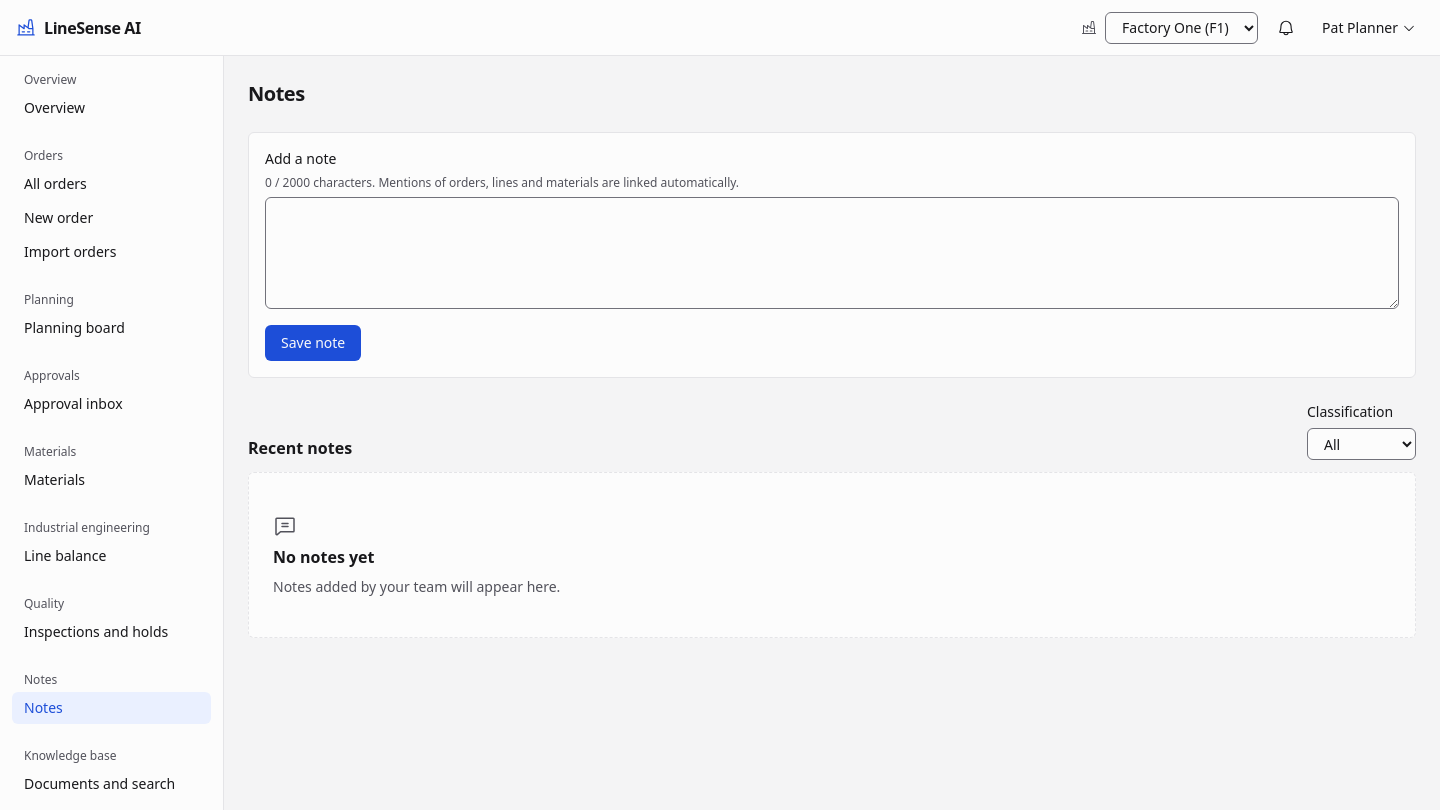
NotesPage › shows a server validation error inline
The width and height of the screenshot is (1440, 810).
Type "hi there team" into the text box labelled "Add a note" at (832,253), box [265,197,1399,309]
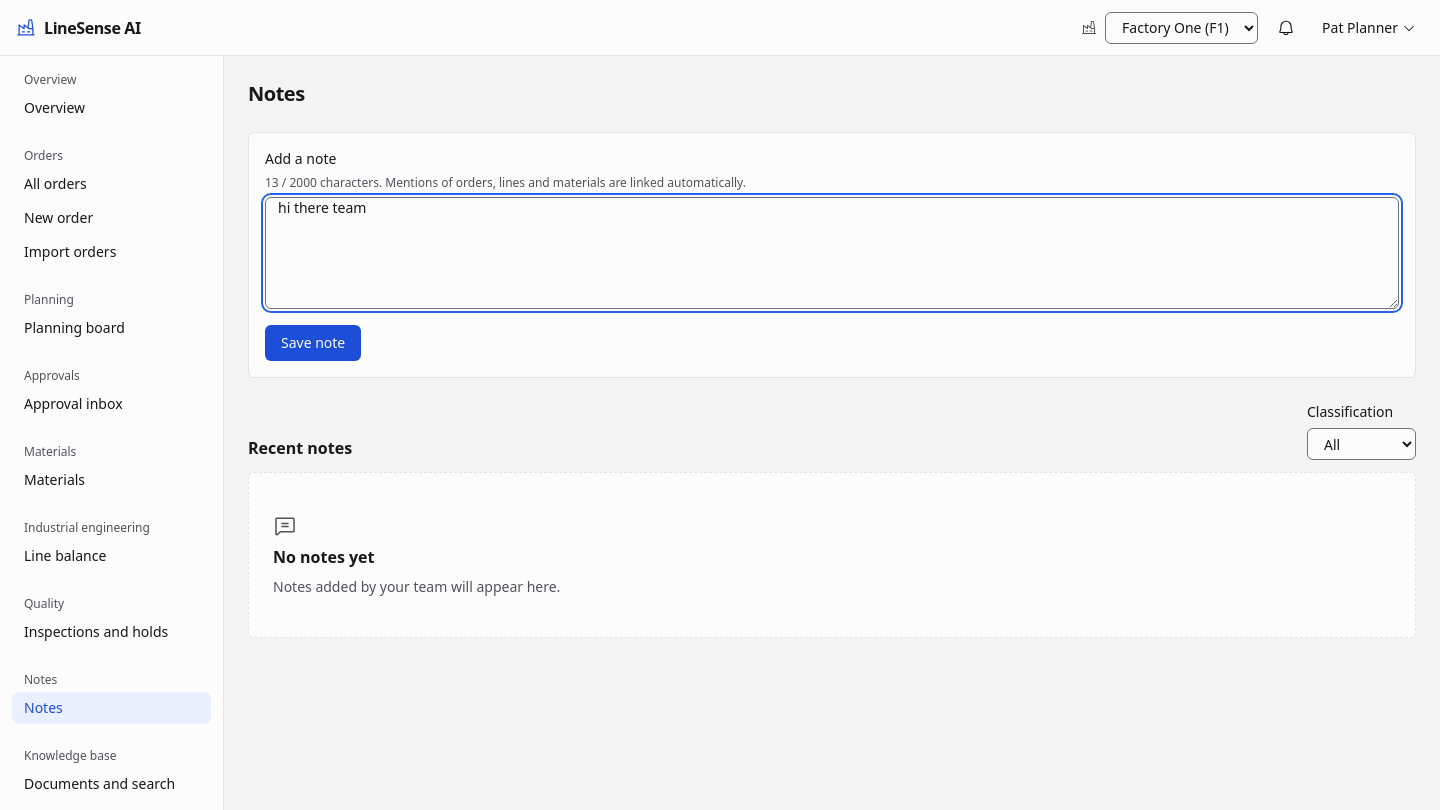
Click the button "Save note" at (313,343), box [265,325,361,361]
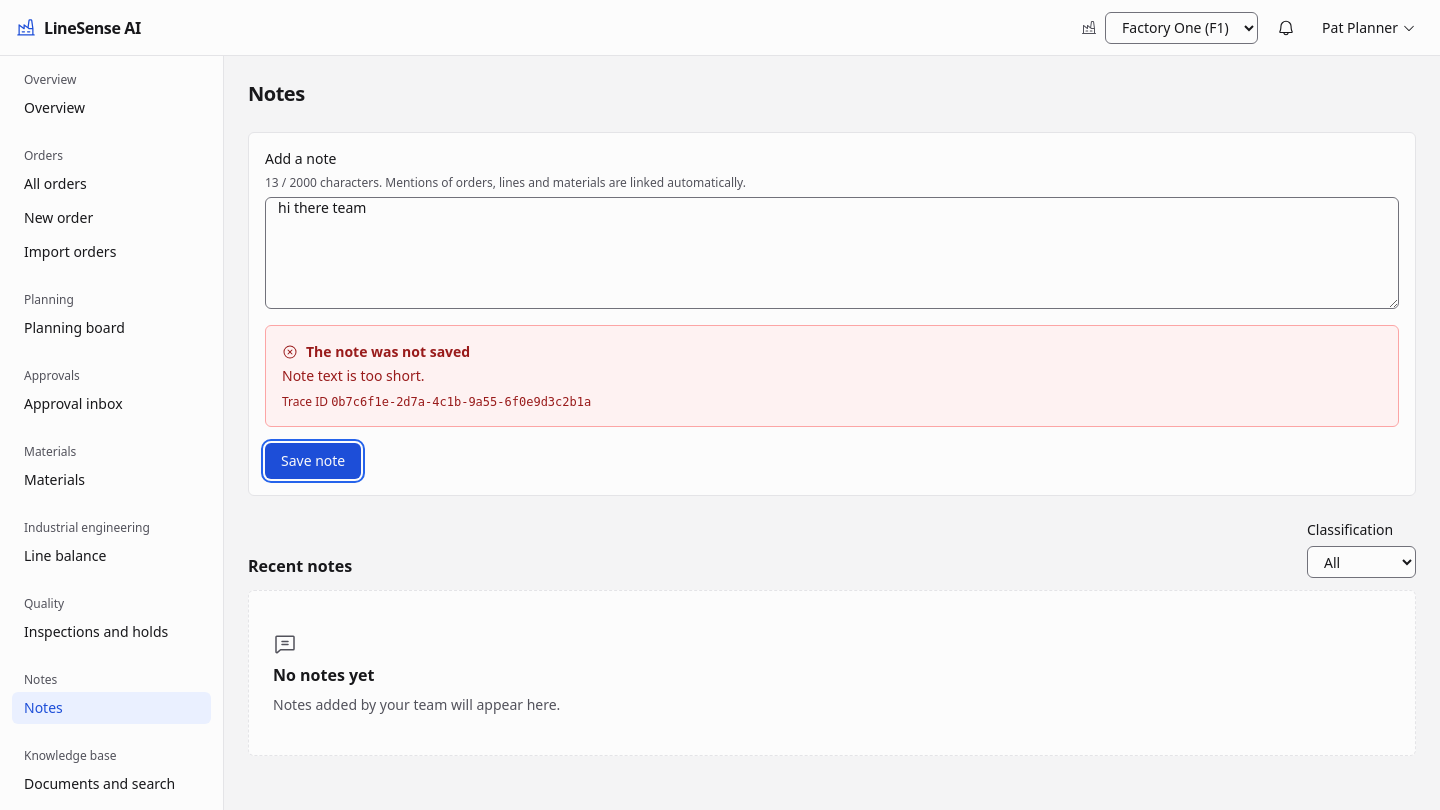
Now the text "Note text is too short." is shown, box [282,366,424,385]
